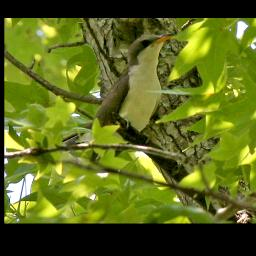Cuckoo: (61, 30, 179, 163)
